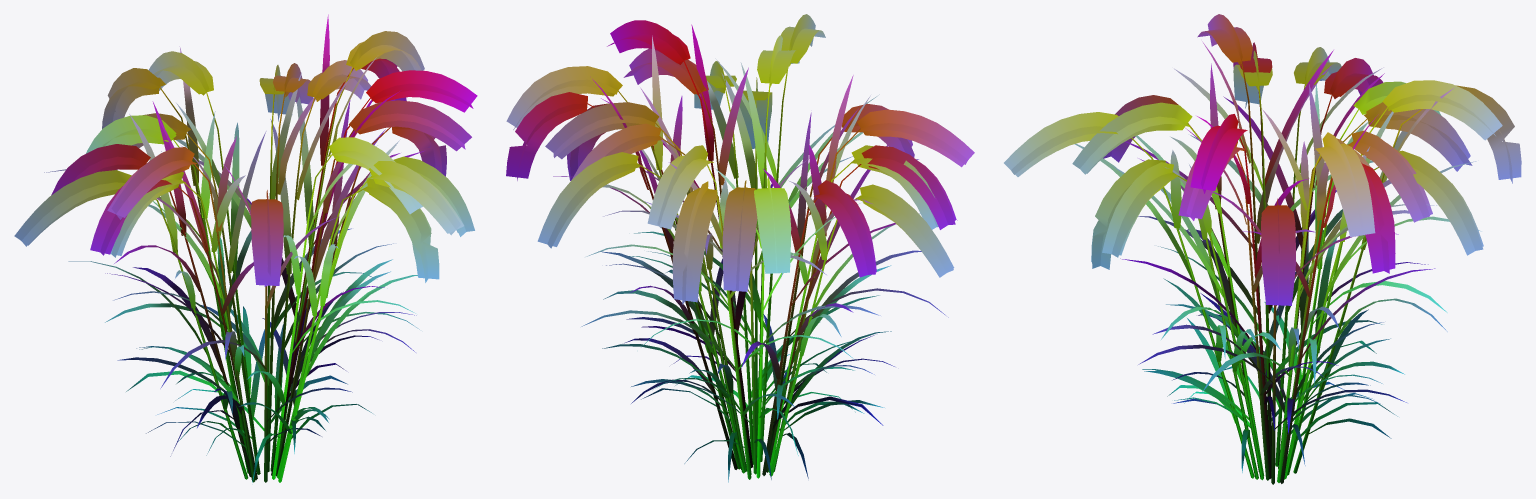
Rendered from Rice_Ripe_C_HD.fbx.
3 renders of one model, left to right at view 1: azimuth 30°, elevation 25°; view 2: azimuth 150°, elevation 25°; view 3: azimuth 270°, elevation 25°, orthographic. The views are drawn at different scales.
Visible parts, largest first — view 1: Rice_Ripe_C_HD_LOD0; view 2: Rice_Ripe_C_HD_LOD0; view 3: Rice_Ripe_C_HD_LOD0.
Boxes of the visible parts, x1,y1,x2,y2 form: Rice_Ripe_C_HD_LOD0: [14, 14, 477, 482]; Rice_Ripe_C_HD_LOD0: [506, 14, 974, 482]; Rice_Ripe_C_HD_LOD0: [1004, 14, 1521, 484].
Size of what is drawn, in the model's own units: 1.09 by 0.9755 by 1.08.
